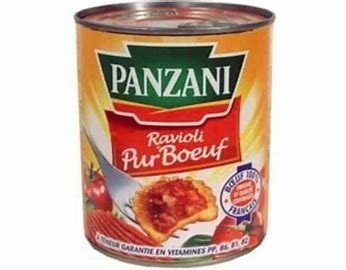metal: (73, 1, 277, 270)
